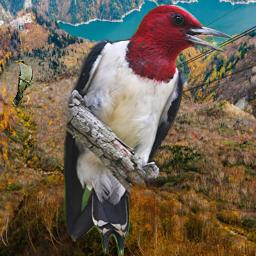Cuckoo: (13, 60, 33, 106)
Woodpecker: (57, 5, 238, 256)
